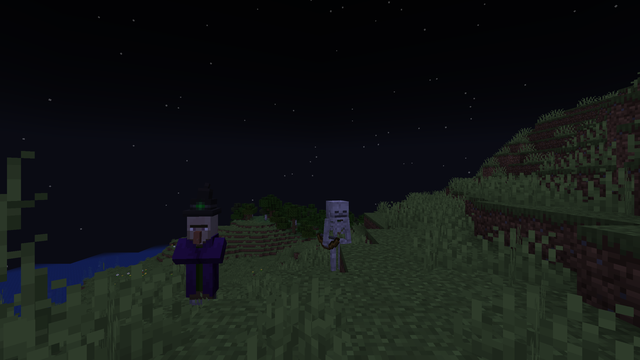sorcieres: (181, 209, 221, 308)
squelettes: (326, 200, 347, 270)
